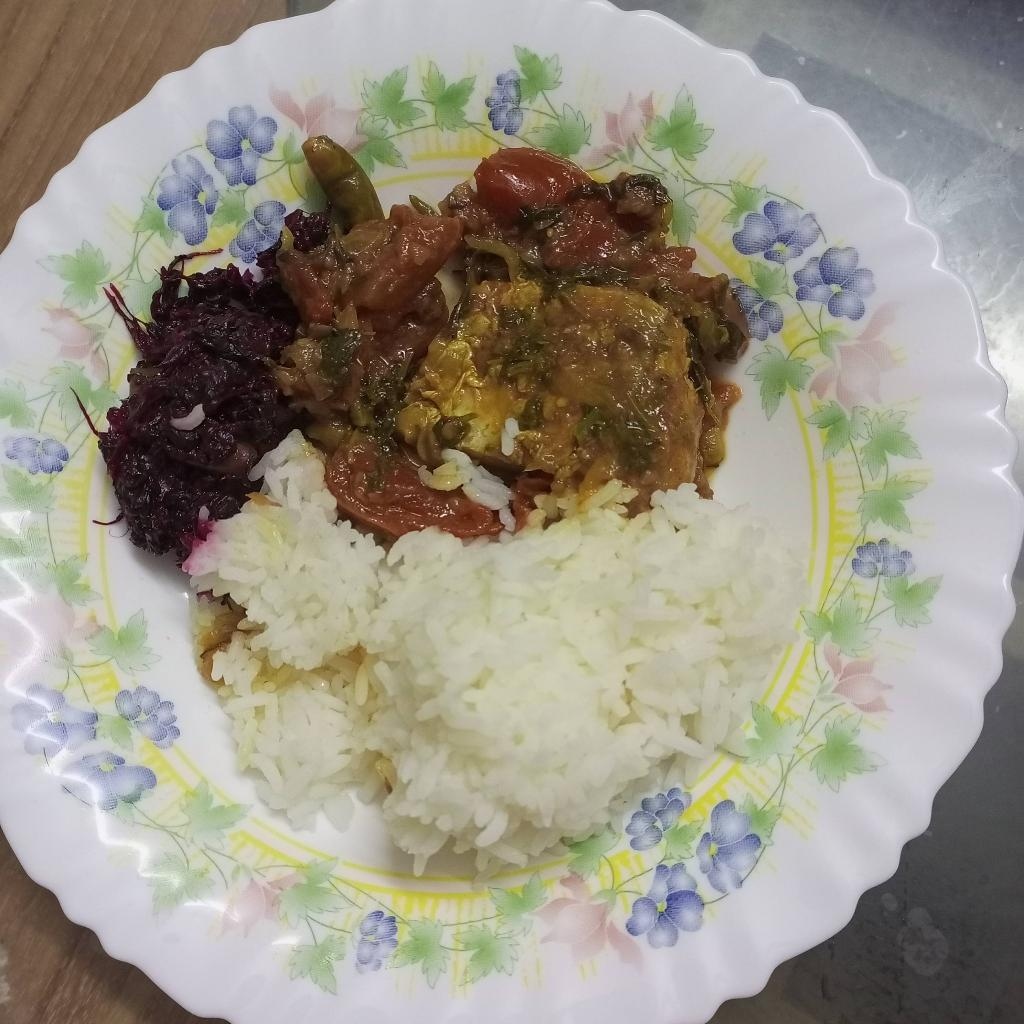fish: (401, 279, 721, 488)
rice: (191, 433, 807, 870)
shak: (98, 257, 305, 559)
tomato: (277, 136, 748, 540)
